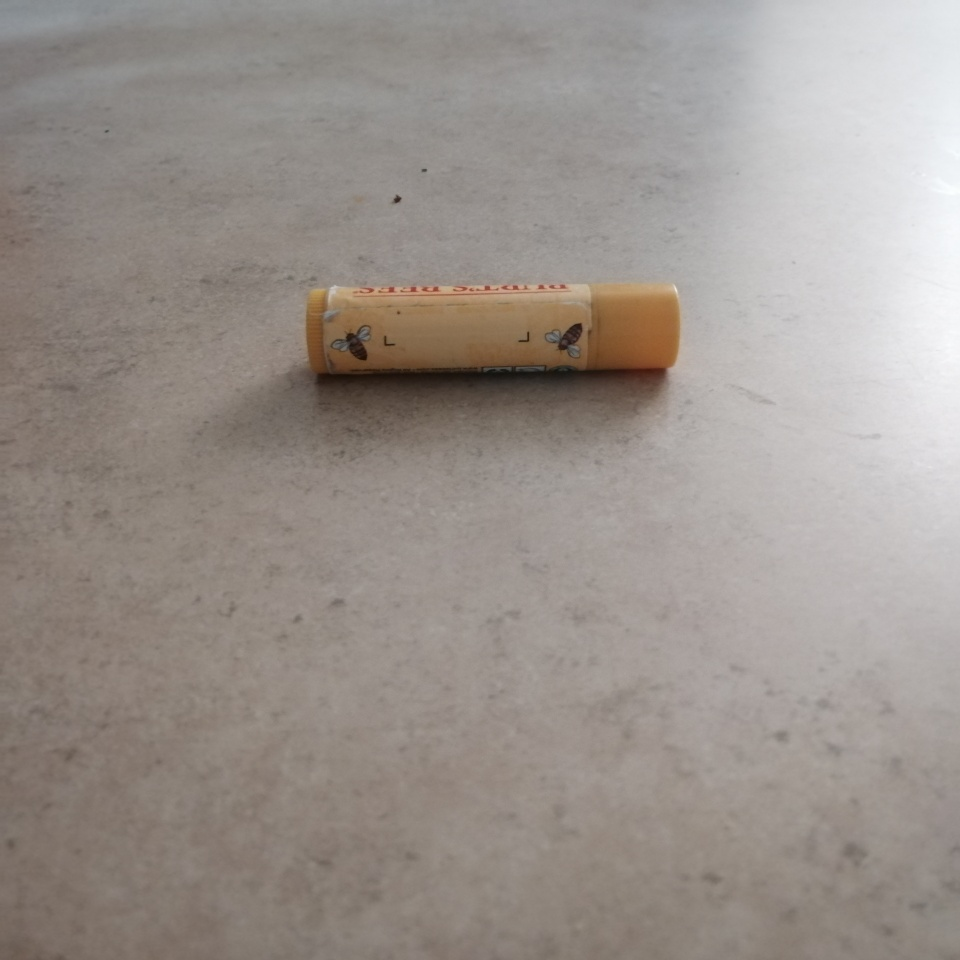chapstick: (305, 282, 683, 376)
